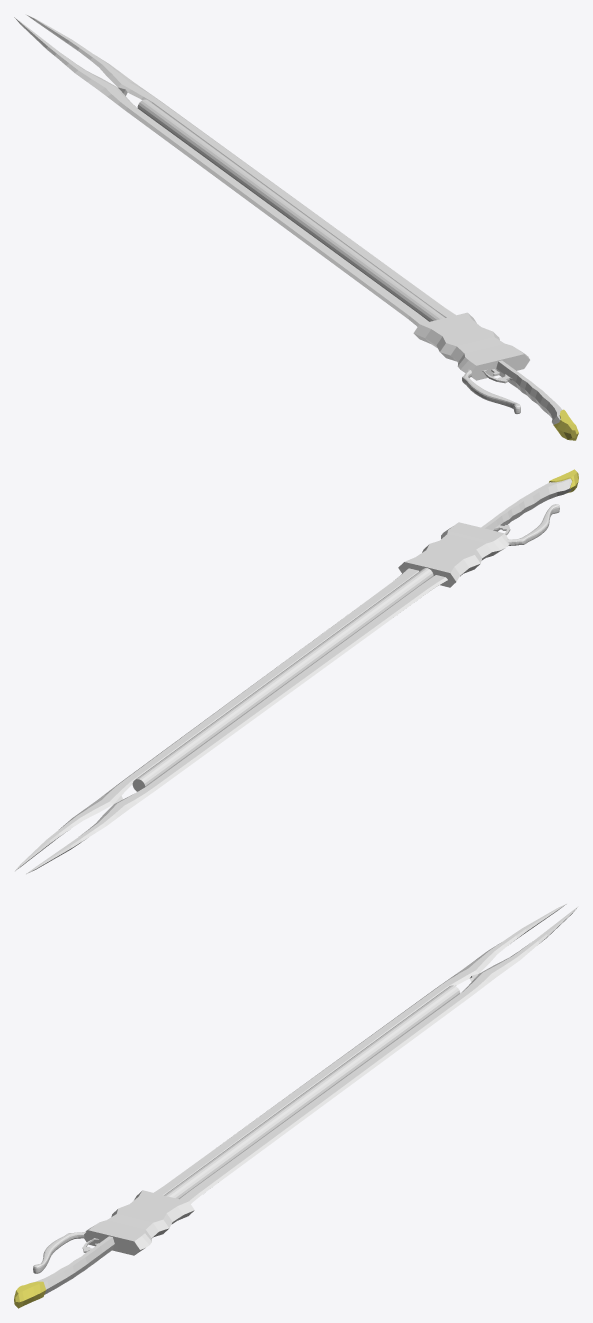
The model's file is GunBlade2.fbx.
3 renders of one model, top to bottom at view 1: azimuth 30°, elevation 25°; view 2: azimuth 150°, elevation 25°; view 3: azimuth 330°, elevation 25°, orthographic. The views are drawn at different scales.
Visible parts, largest first — view 1: Blade, Cylinder, Sword_Guard, Sword_Grip, GunSword_HandProtection; view 2: Blade, Cylinder, Sword_Guard, Sword_Grip, GunSword_HandProtection; view 3: Blade, Cylinder, Sword_Guard, Sword_Grip, GunSword_HandProtection.
Part boxes in pixels (left/top/right/bottom): Blade: left=14, top=15, right=455, bottom=326; Cylinder: left=137, top=99, right=444, bottom=321; Sword_Guard: left=413, top=312, right=529, bottom=380; Sword_Grip: left=496, top=360, right=578, bottom=440; GunSword_HandProtection: left=462, top=369, right=520, bottom=414; Blade: left=14, top=568, right=447, bottom=873; Cylinder: left=132, top=568, right=433, bottom=791; Sword_Guard: left=398, top=522, right=509, bottom=587; Sword_Grip: left=481, top=469, right=578, bottom=531; GunSword_HandProtection: left=506, top=504, right=559, bottom=545; Blade: left=153, top=904, right=578, bottom=1203; Cylinder: left=164, top=985, right=460, bottom=1199; Sword_Guard: left=84, top=1190, right=194, bottom=1255; Sword_Grip: left=14, top=1236, right=114, bottom=1308; GunSword_HandProtection: left=33, top=1231, right=85, bottom=1273.
Bounding box in the file's own units: 0.0779 × 0.0154 × 1.
